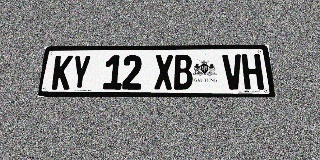1: (103, 55, 123, 90)
2: (122, 55, 142, 90)
B: (174, 55, 193, 90)
H: (241, 54, 264, 90)
K: (51, 55, 73, 90)
V: (222, 54, 244, 90)
X: (154, 55, 173, 90)
Y: (70, 55, 91, 90)
